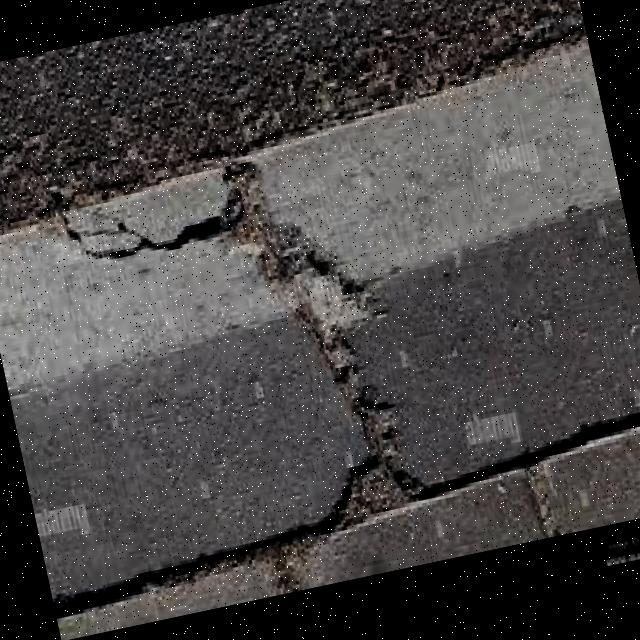curb: (1, 30, 640, 609)
